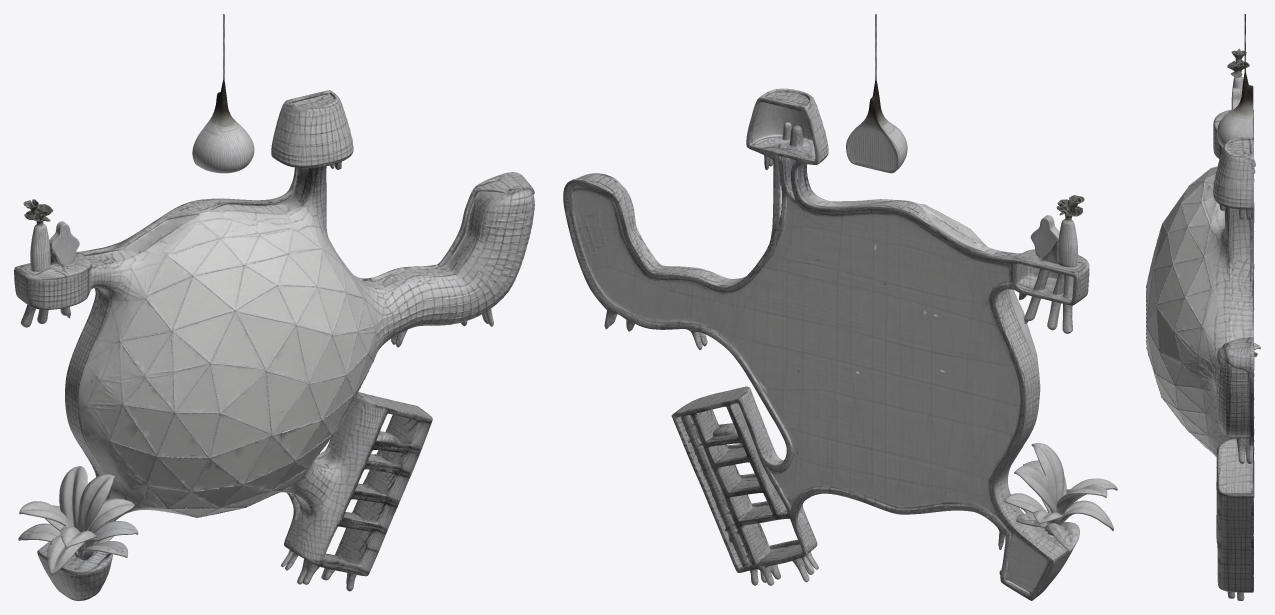
Rendered from texturized-new.glb.
3 views of the same model, side by side, from view 1: azimuth 30°, elevation 25°; view 2: azimuth 150°, elevation 25°; view 3: azimuth 270°, elevation 25° (orthographic). The views are drawn at different scales.
Parts seen in each view (by area): view 1: material; view 2: material; view 3: material.
Boxes of the visible parts, left/top/right/bottom form: material: left=14, top=14, right=534, bottom=600; material: left=563, top=14, right=1117, bottom=600; material: left=1146, top=14, right=1260, bottom=600.
Size of the model in its own units: 1.01 by 1.11 by 0.2156.
1 material, 1 textured.
